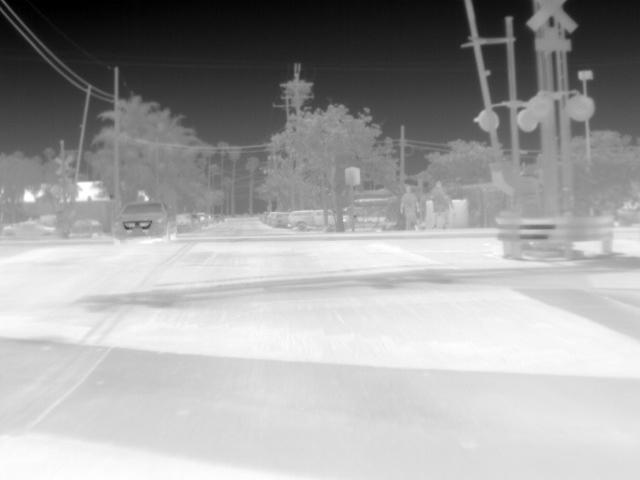car: (114, 199, 176, 242), (3, 220, 54, 237), (289, 208, 324, 230), (173, 212, 202, 233), (72, 215, 104, 234), (617, 206, 639, 227), (270, 210, 289, 228)
person: (426, 180, 457, 230), (398, 183, 425, 230)
